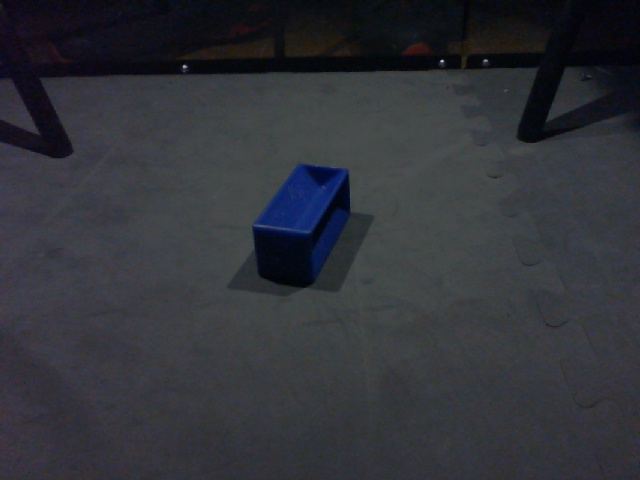BlueSample: (247, 161, 356, 287)
